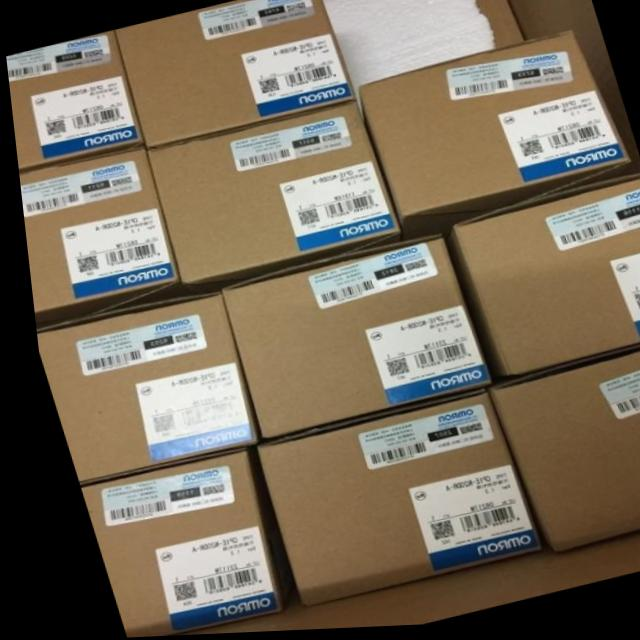box: (246, 393, 529, 609), (356, 34, 628, 244), (215, 238, 484, 440), (145, 103, 398, 295), (29, 294, 247, 481), (444, 178, 640, 383), (68, 449, 265, 638), (114, 0, 354, 151), (479, 347, 640, 554), (15, 148, 176, 330), (5, 31, 143, 174)
